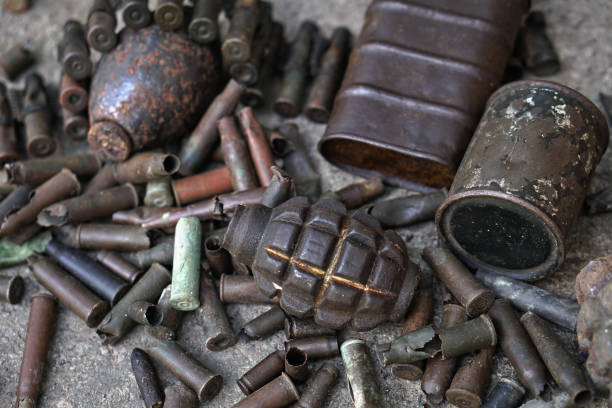e1: (223, 198, 421, 330)
